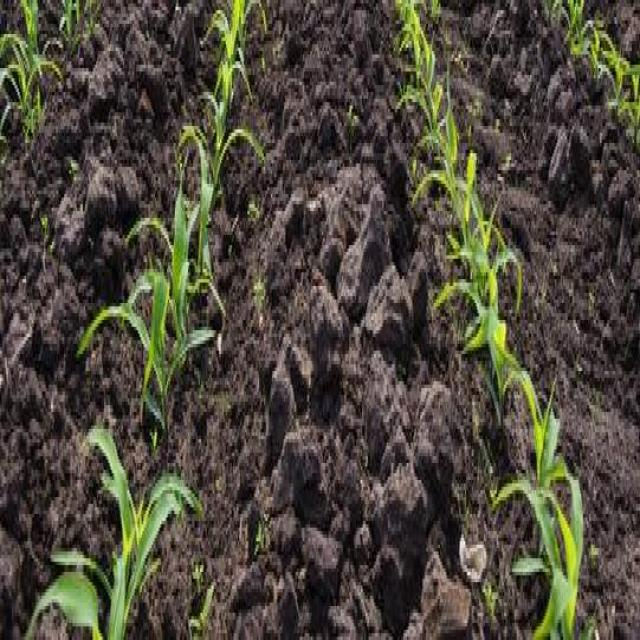row: (156, 0, 541, 638), (0, 0, 218, 640), (432, 0, 640, 640), (589, 0, 640, 75)
